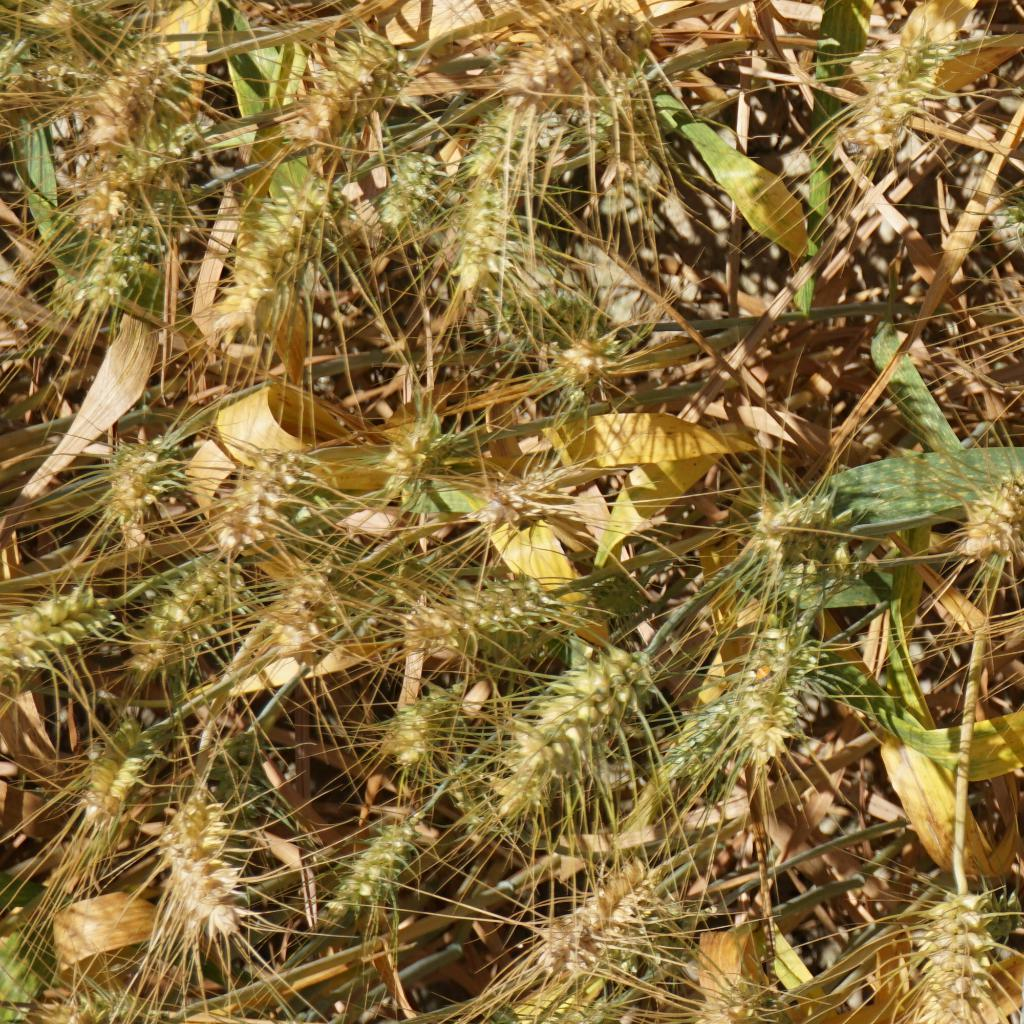0-0: (207, 167, 372, 318), (482, 671, 630, 826), (524, 850, 683, 987), (48, 173, 214, 303), (482, 7, 658, 99), (162, 773, 257, 940), (174, 712, 271, 871), (911, 877, 1011, 1016), (487, 248, 612, 358), (399, 572, 564, 652), (332, 808, 434, 927), (846, 28, 950, 143), (726, 648, 828, 760), (144, 571, 244, 671), (0, 585, 119, 668), (92, 431, 180, 534), (483, 467, 589, 548), (588, 139, 689, 223), (111, 55, 207, 142), (219, 442, 300, 541), (436, 170, 497, 291), (376, 409, 454, 503), (543, 324, 631, 407), (668, 698, 738, 792), (315, 34, 408, 102), (79, 719, 147, 812), (451, 96, 530, 175), (277, 91, 359, 157), (384, 685, 449, 766), (64, 159, 140, 227), (272, 567, 345, 634), (975, 472, 1024, 568), (372, 142, 432, 217), (62, 1, 135, 58), (729, 486, 800, 543), (0, 57, 82, 106), (995, 179, 1024, 246)
